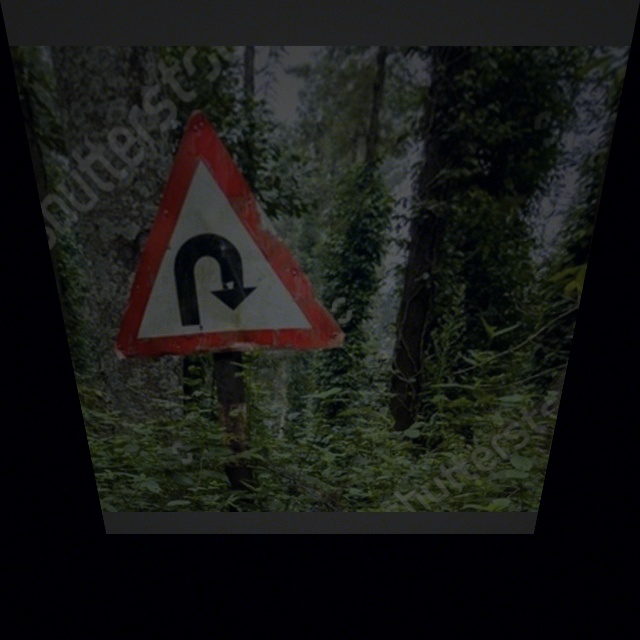Right_Hair_Pin_Bend: (77, 110, 347, 347)
